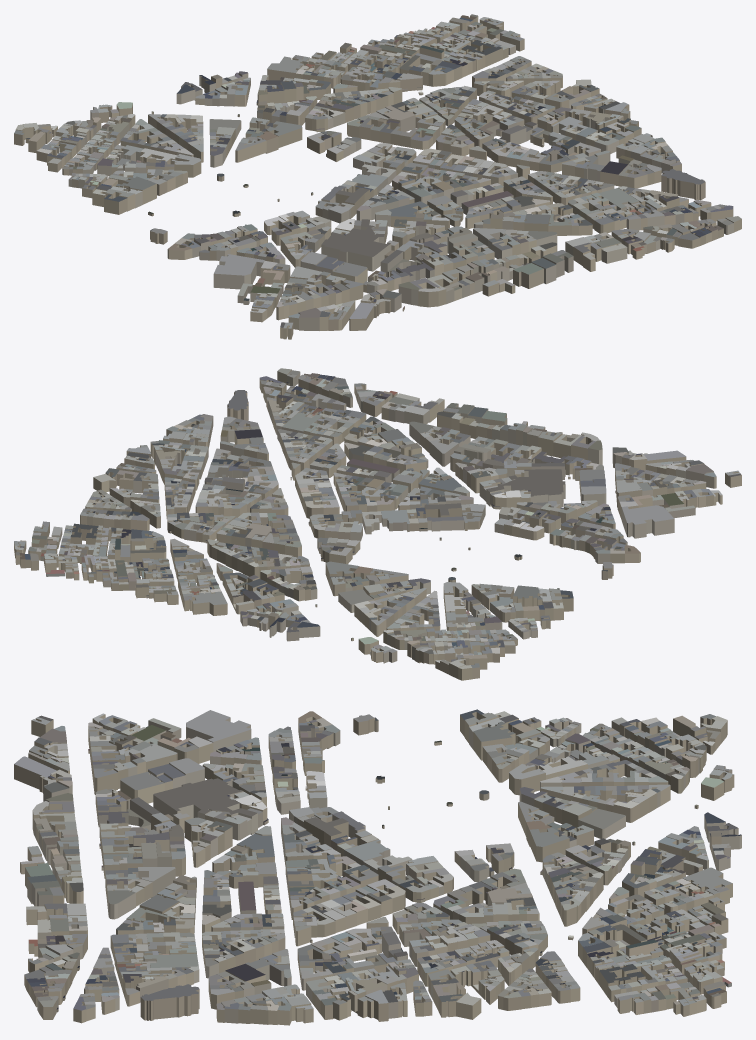
3 renders of one model, top to bottom at view 1: azimuth 30°, elevation 25°; view 2: azimuth 150°, elevation 25°; view 3: azimuth 270°, elevation 25°, orthographic. The views are drawn at different scales.
Parts seen in each view (by area): view 1: tuile; view 2: tuile; view 3: tuile.
Part boxes in pixels (bbox=[...]): tuile: bbox=[14, 14, 741, 339]; tuile: bbox=[14, 368, 741, 680]; tuile: bbox=[14, 709, 741, 1025].
Size of the model in its own units: 1032 by 51.89 by 1055.
